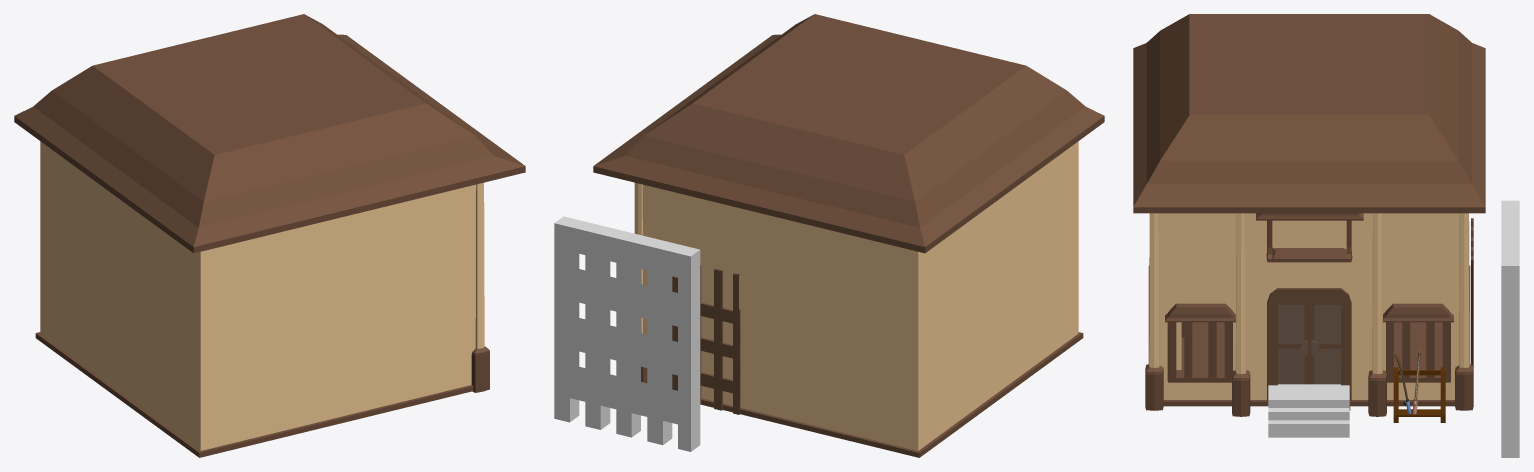
The model's file is tall house.fbx.
3 views of the same model, side by side, from view 1: azimuth 30°, elevation 25°; view 2: azimuth 150°, elevation 25°; view 3: azimuth 270°, elevation 25° (orthographic).
Parts seen in each view (by area): view 1: Cube.001, Cube.013, Cube.003, Cube, Cube.011; view 2: Cube.001, Cube.013, castle thing, Cube.003, Cube.016, Cube, Cube.011; view 3: Cube.013, Cube.001, Cube.003, Cube.006, Cube.011, Cube.012, castle thing, Cube.008, Cube, Cube.005, Cube.002, Cube.009 (+4 smaller).
Part boxes in pixels (<box>): Cube.001: <box>40,141,476,450</box>; Cube.013: <box>15,14,523,246</box>; Cube.003: <box>14,34,525,253</box>; Cube: <box>35,332,473,457</box>; Cube.011: <box>471,182,489,392</box>; Cube.001: <box>642,141,1078,450</box>; Cube.013: <box>594,14,1103,246</box>; castle thing: <box>554,216,700,451</box>; Cube.003: <box>593,34,1104,253</box>; Cube.016: <box>672,265,740,414</box>; Cube: <box>701,332,1083,457</box>; Cube.011: <box>634,182,647,383</box>; Cube.013: <box>1133,14,1485,207</box>; Cube.001: <box>1159,213,1459,399</box>; Cube.003: <box>1133,45,1485,213</box>; Cube.006: <box>1232,213,1386,416</box>; Cube.011: <box>1145,213,1473,410</box>; Cube.012: <box>1278,303,1340,384</box>; castle thing: <box>1501,200,1519,457</box>; Cube.008: <box>1167,322,1450,382</box>; Cube: <box>1148,265,1470,406</box>; Cube.005: <box>1268,384,1349,437</box>; Cube.002: <box>1267,288,1351,400</box>; Cube.009: <box>1165,303,1453,322</box>.
Size of the model in its own units: 7624 by 6269 by 7356.
